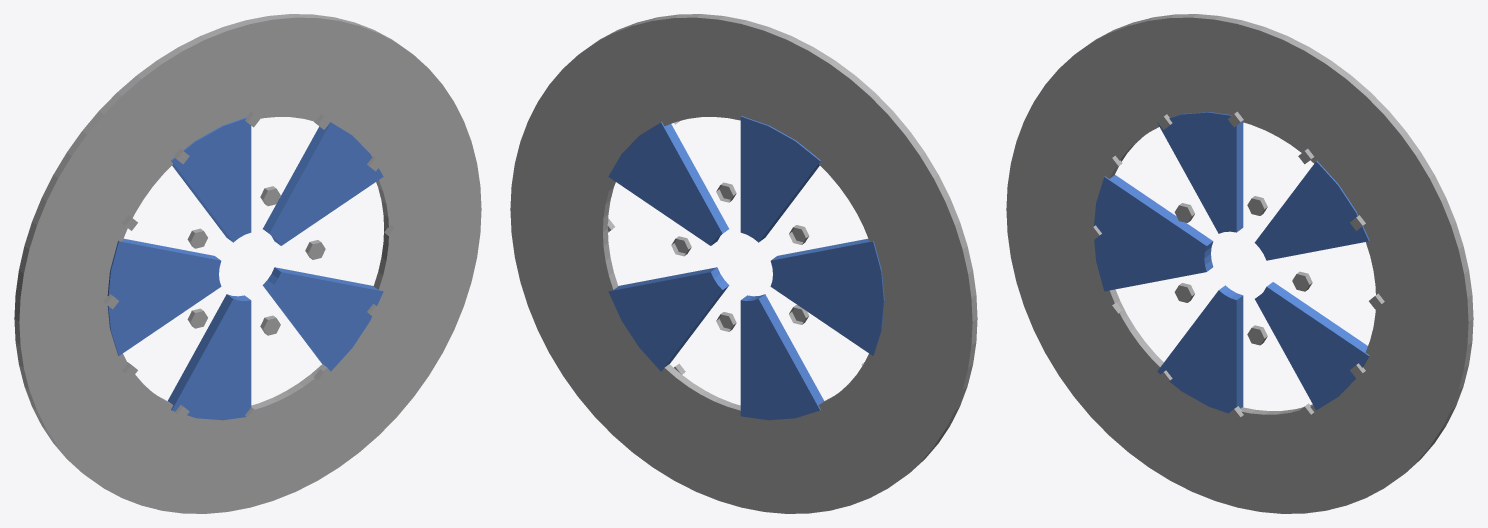
The model's file is drilled_floating_320_lod1.glb.
3 renders of one model, left to right at view 1: azimuth 30°, elevation 25°; view 2: azimuth 150°, elevation 25°; view 3: azimuth 330°, elevation 25°, orthographic.
Visible parts, largest first — view 1: drilled_floating_320_lod1; view 2: drilled_floating_320_lod1; view 3: drilled_floating_320_lod1.
Part boxes in pixels (box(x1,y1,x2,y2)): drilled_floating_320_lod1: box(14, 14, 481, 513); drilled_floating_320_lod1: box(510, 14, 977, 513); drilled_floating_320_lod1: box(1006, 14, 1473, 513).
Size of the model in its own units: 0.32 by 0.32 by 0.011.
